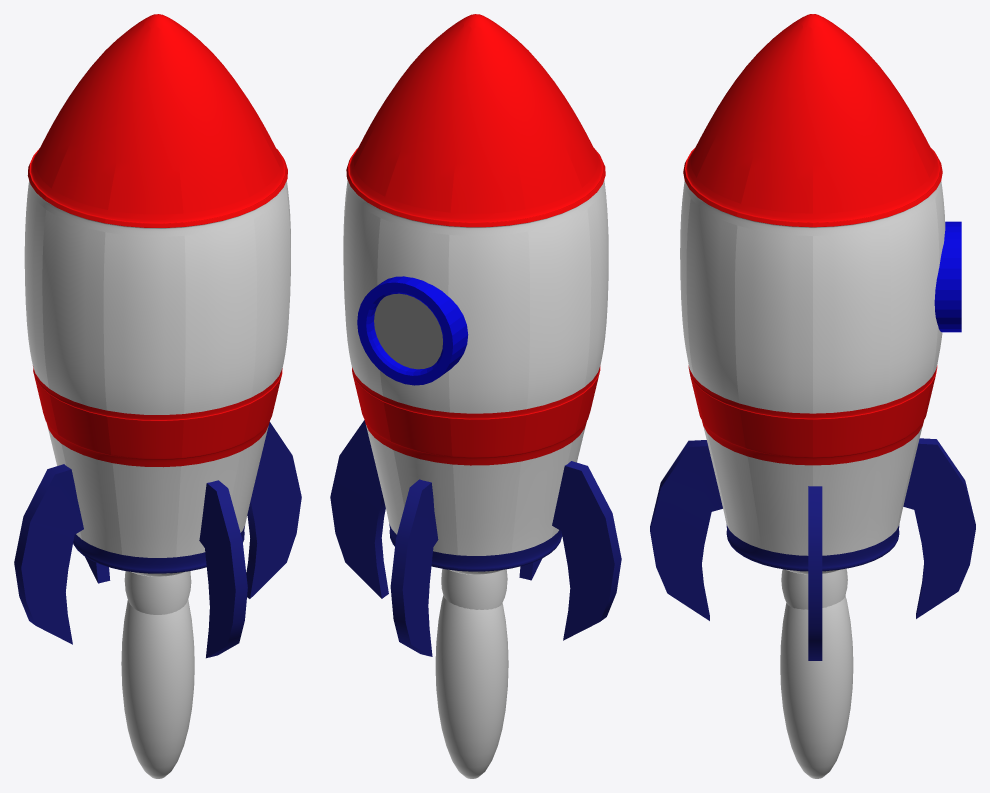
File: ROCKET.fbx
3 renders of one model, left to right at view 1: azimuth 30°, elevation 25°; view 2: azimuth 150°, elevation 25°; view 3: azimuth 270°, elevation 25°, orthographic.
Visible parts, largest first — view 1: body, rocket on, arm3, arm1, arm2, rocket on.001; view 2: body, rocket on, Cylinder, arm3, arm1, arm4, rocket on.001; view 3: body, rocket on, arm2, arm4, arm1, Cylinder, rocket on.001.
Part boxes in pixels (x1,y1,x2,y2): body: (24,14,290,576); rocket on: (121,599,194,778); arm3: (14,464,83,644); arm1: (246,422,301,598); arm2: (199,480,247,658); rocket on.001: (124,571,191,614); body: (343,14,608,574); rocket on: (435,595,508,778); Cylinder: (357,276,468,385); arm3: (552,461,621,640); arm1: (330,420,388,598); arm4: (390,479,438,656); rocket on.001: (441,568,507,609); body: (680,14,945,574); rocket on: (780,595,853,778); arm2: (650,440,722,620); arm4: (903,438,975,618); arm1: (808,486,822,660); Cylinder: (934,221,961,332); rocket on.001: (781,568,847,609).
Size of the model in its own units: 241 by 622 by 241.
